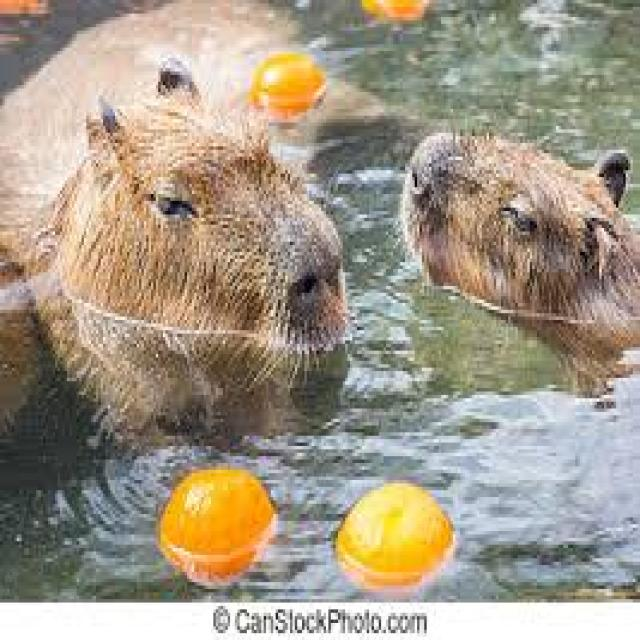capy: (0, 58, 344, 420), (402, 125, 640, 364)
